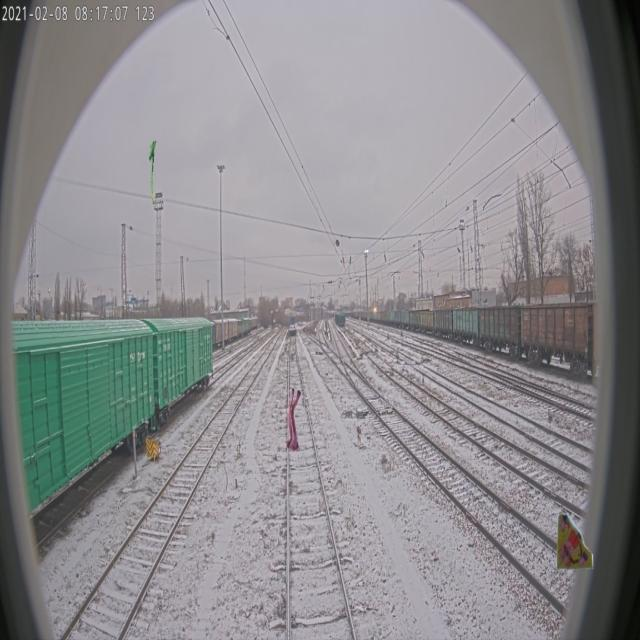floating object: (554, 509, 594, 573), (286, 388, 301, 452), (148, 140, 156, 204)
